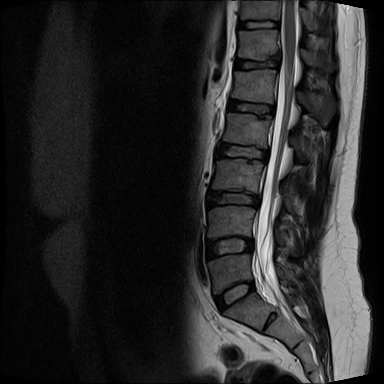Degenerative Disc Disease (DDD): (229, 55, 282, 75)
Lumbar Disc Bulge (LDB): (199, 230, 260, 266), (198, 183, 265, 213)
Normal IVD: (209, 277, 260, 317), (212, 137, 274, 167), (224, 94, 279, 119), (233, 16, 284, 33)
Spinal Stenosis (SS): (250, 185, 270, 212), (247, 233, 264, 259)
